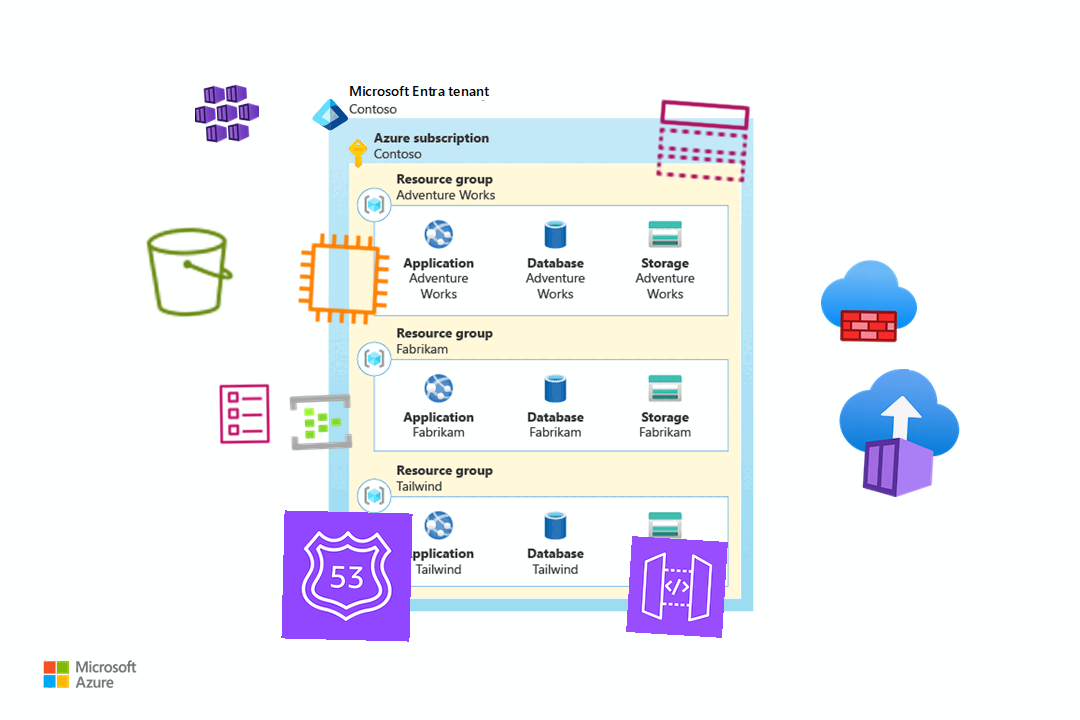aws_amazon_api_gateway: (626, 536, 728, 638)
aws_amazon_route_53: (281, 510, 413, 642)
aws_cloudformation_template: (211, 381, 277, 447)
aws_ec2_instance: (293, 228, 395, 330)
aws_simple_notification_service_topic: (651, 89, 755, 193)
aws_simple_storage_service_bucket: (140, 222, 240, 322)
azure_container_instances: (831, 365, 967, 501)
azure_event_hubs: (287, 388, 355, 456)
azure_firewalls: (820, 252, 918, 350)
azure_kubernetes_services: (193, 79, 261, 147)
